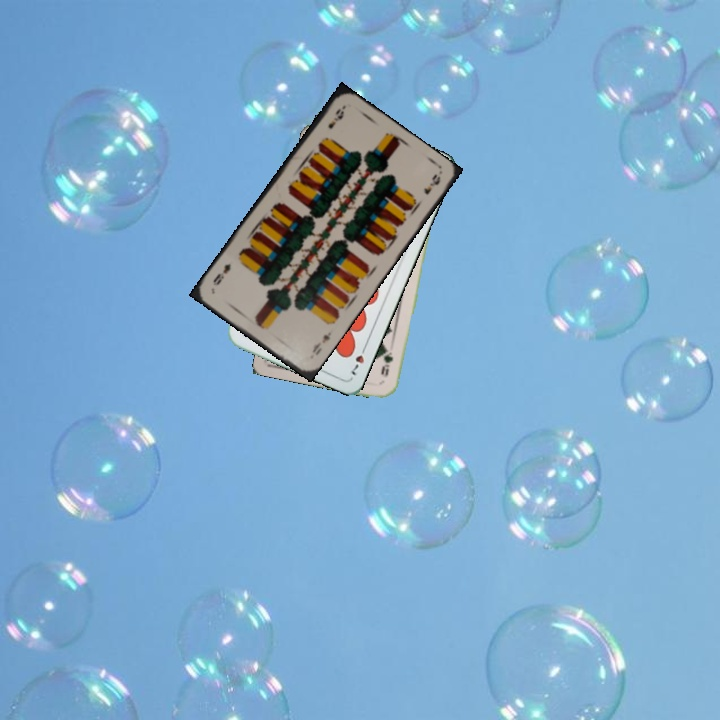E9: (308, 328, 334, 358), (324, 103, 347, 132)
G9: (377, 343, 396, 379)
H7: (347, 340, 370, 378)
